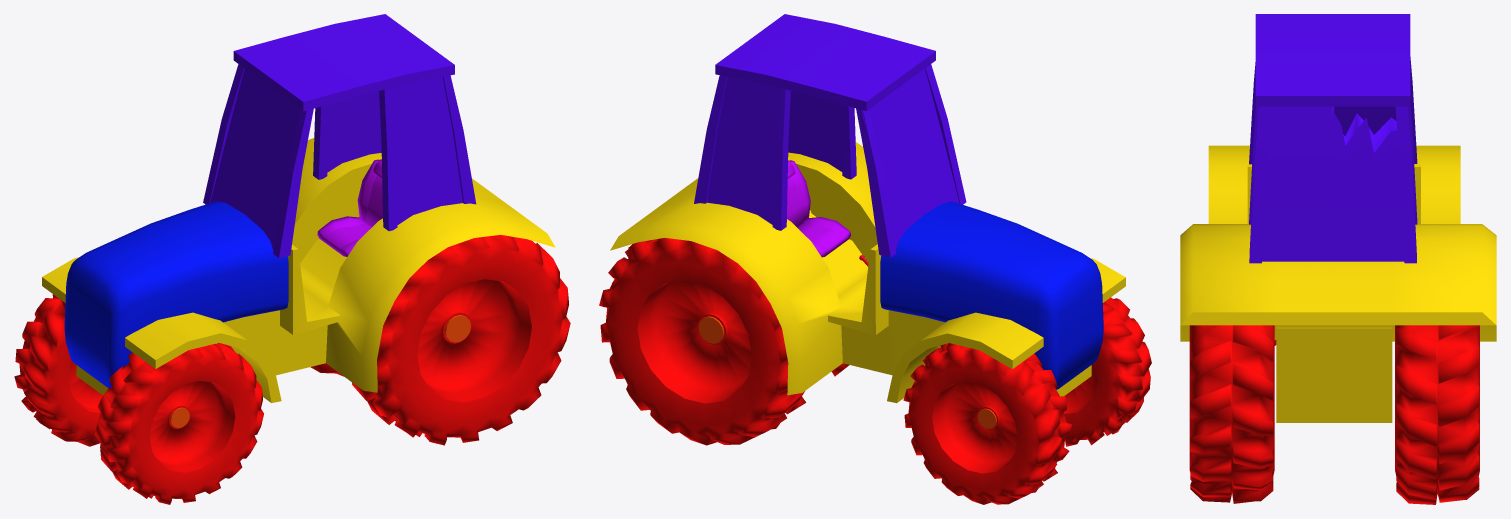
File: Tractor.FBX
The picture shows the model from 3 angles, left to right: view 1: azimuth 30°, elevation 25°; view 2: azimuth 150°, elevation 25°; view 3: azimuth 270°, elevation 25°; orthographic projection. The views are drawn at different scales.
Visible parts, largest first — view 1: Poles, Body, Big wheel, Front, Big wheel001, Big wheel003, chair; view 2: Poles, Body, Big wheel002, Front, Big wheel003, Big wheel001, chair; view 3: Body, Poles, Big wheel, Big wheel002.
Boxes of the visible parts, x1,y1,x2,y2 form: Poles: (203, 14, 476, 257); Body: (42, 138, 555, 402); Big wheel: (352, 235, 570, 445); Front: (64, 201, 288, 387); Big wheel001: (95, 343, 263, 504); Big wheel003: (14, 294, 102, 446); chair: (317, 159, 382, 256); Poles: (694, 14, 966, 257); Body: (610, 142, 1125, 403); Big wheel002: (599, 238, 805, 445); Front: (880, 201, 1103, 389); Big wheel003: (903, 343, 1072, 504); Big wheel001: (1064, 297, 1151, 446); chair: (787, 160, 850, 257); Body: (1180, 145, 1496, 422); Poles: (1249, 14, 1417, 263); Big wheel: (1189, 325, 1274, 503); Big wheel002: (1395, 325, 1479, 504).
Bounding box in the file's own units: 487 × 377 × 267.
